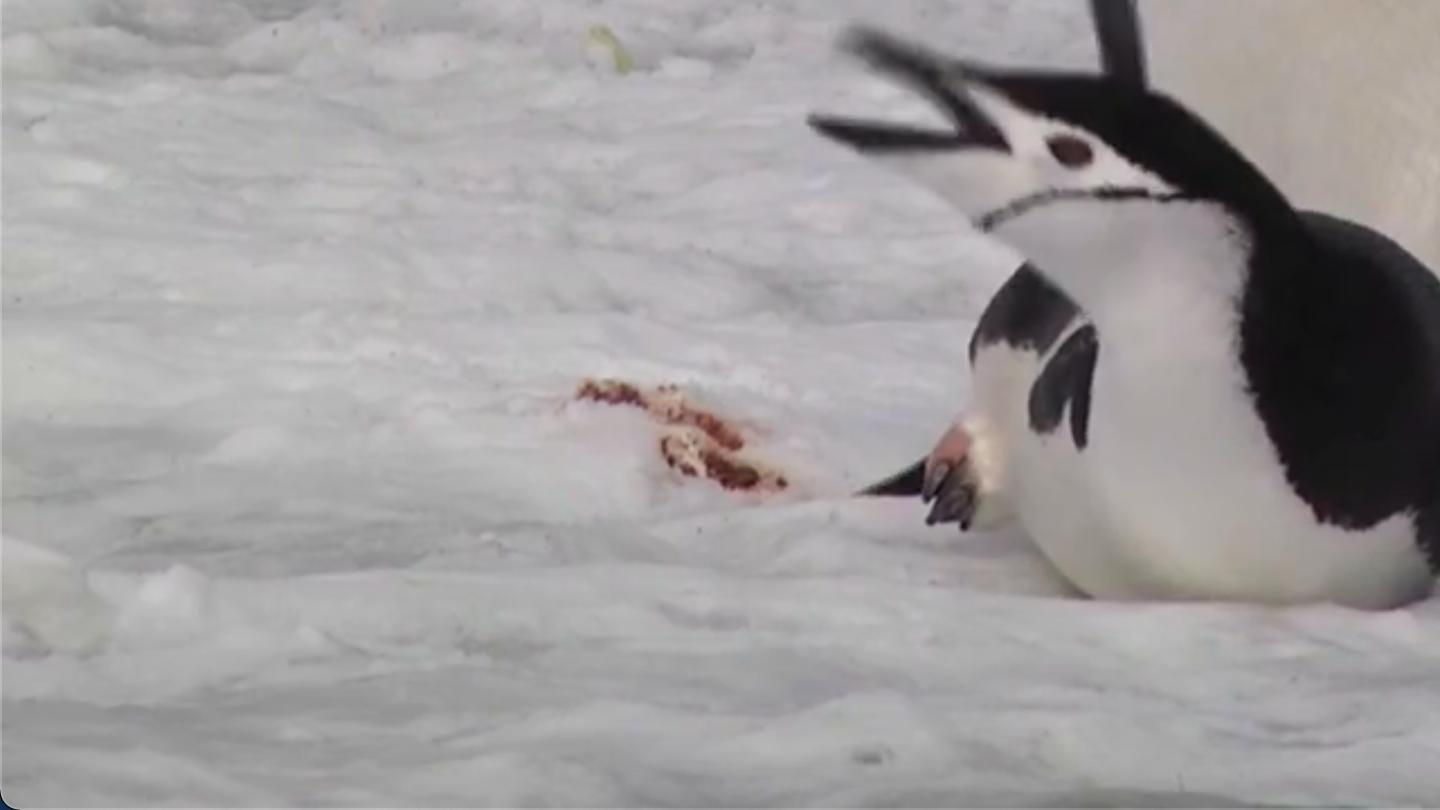Chinstrap Penguin: (771, 5, 1440, 654), (1136, 0, 1440, 41)
